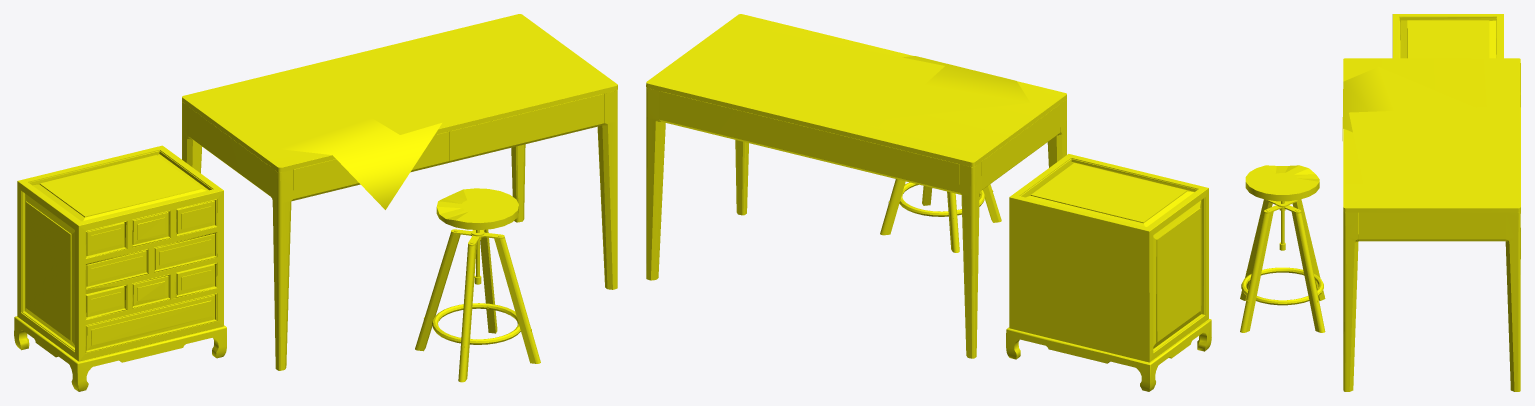
The model's file is Table002.FBX.
3 views of the same model, side by side, from view 1: azimuth 30°, elevation 25°; view 2: azimuth 150°, elevation 25°; view 3: azimuth 270°, elevation 25° (orthographic). The views are drawn at different scales.
Parts seen in each view (by area): view 1: Table002; view 2: Table002; view 3: Table002.
Part boxes in pixels (box(x1,y1,x2,y2)): Table002: box(14, 14, 617, 391); Table002: box(646, 14, 1211, 391); Table002: box(1240, 14, 1520, 391).
Size of the model in its own units: 2.12 by 1.11 by 0.8019.
